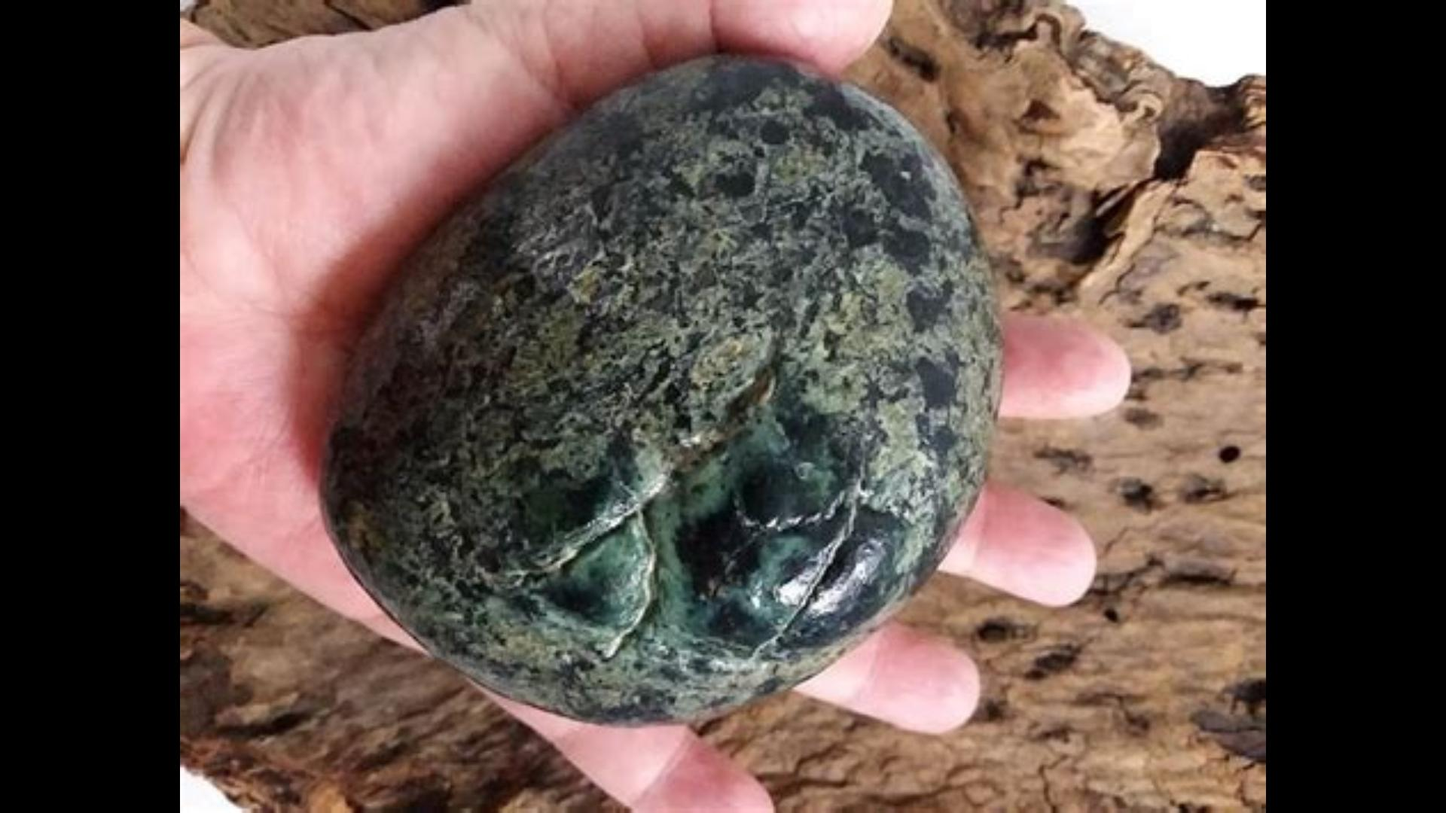rock: (324, 60, 996, 715)
